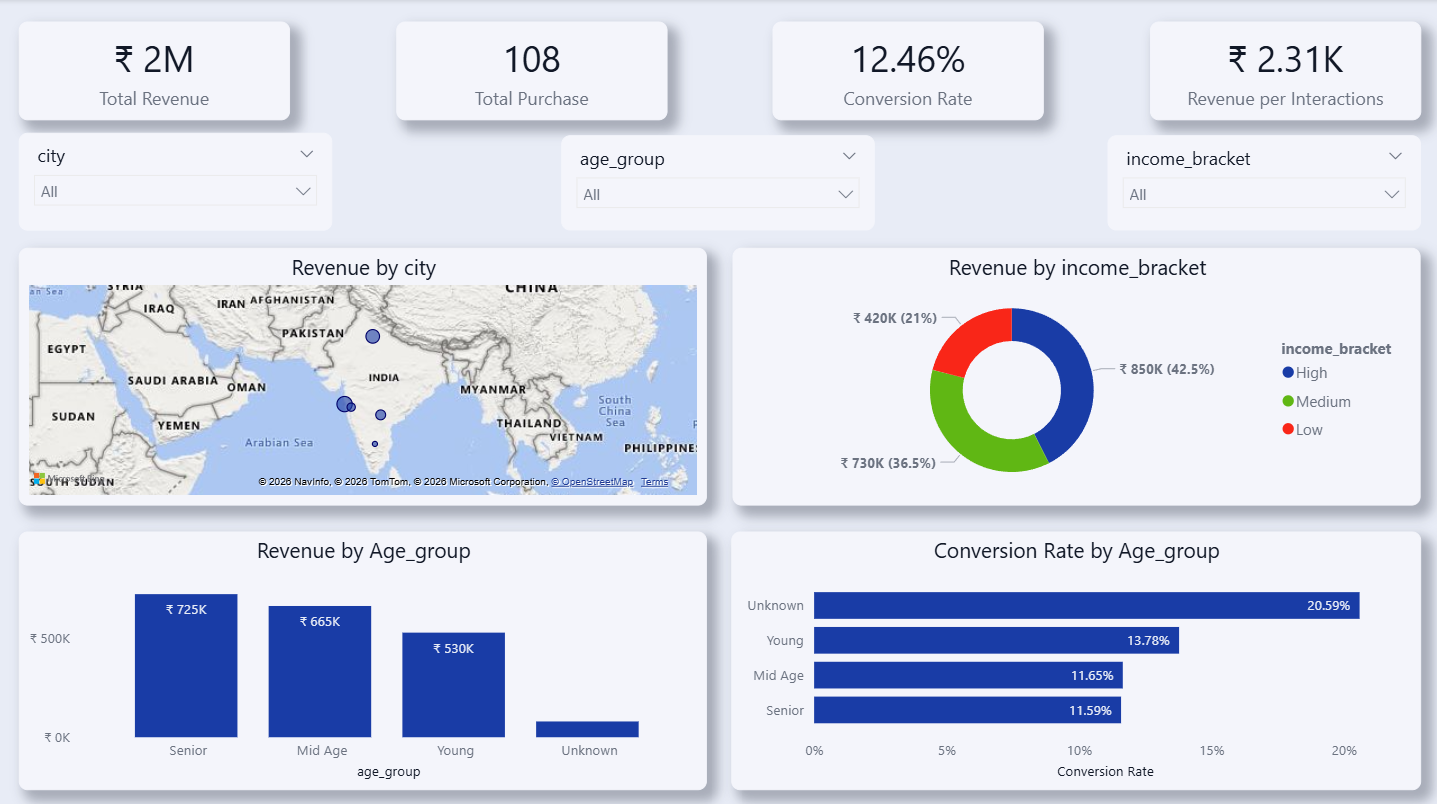

The page's visual inventory and layout, read from the dashboard file:
{"tool":"powerbi","page":{"name":"Customer Insights","canvas":[1280,720],"ordinal":2},"visuals":[{"type":"card","fields":{"Values":["Customers.Total Revenue"]},"box":[17.2,19.6,241.6,88.3],"z":0},{"type":"card","fields":{"Values":["Customers.Total Purchase"]},"box":[352.8,19.6,241.6,88.3],"z":1},{"type":"card","fields":{"Values":["Customers.Conversion Rate"]},"box":[688.4,19.6,241.6,88.3],"z":2},{"type":"card","fields":{"Values":["Customers.Revenue per Interactions"]},"box":[1024,19.6,241.6,88.3],"z":3},{"type":"slicer","fields":{"Values":["Customers.city"]},"box":[17.2,119.6,279.6,87.1],"z":4},{"type":"slicer","fields":{"Values":["Customers.income_bracket"]},"box":[985.9,120.8,279.6,84.6],"z":5},{"type":"slicer","fields":{"Values":["Customers.age_roup"]},"box":[500.3,121.4,279.6,84.6],"z":6},{"type":"map","title":"Revenue by city","fields":{"Category":["Customers.city"],"Size":["Customers.Total Revenue"]},"box":[16.9,222,612.9,229.2],"z":7},{"type":"donutChart","title":"Revenue by income_bracket","fields":{"Y":["Customers.Total Revenue"],"Category":["Customers.income_bracket"]},"box":[652.7,222,612.9,229.2],"z":8},{"type":"clusteredColumnChart","title":"Revenue by Age_group","fields":{"Y":["Customers.Total Revenue"],"Category":["Customers.age_group"]},"box":[16.9,474.1,612.9,230.4],"z":9},{"type":"barChart","title":"Conversion Rate by Age_group","fields":{"Y":["Customers.Conversion Rate"],"Category":["Customers.age_roup"]},"box":[651.5,474.1,614.1,230.4],"z":10}]}

Visuals, with their boxes in screenshot pixels (x1, y1, x2, y2), scaled from the page's 1280x720 canvas onto the 1437x804 screenshot:
card - Customers.Total Revenue: Rect(19, 22, 291, 120)
card - Customers.Total Purchase: Rect(396, 22, 667, 120)
card - Customers.Conversion Rate: Rect(773, 22, 1044, 120)
card - Customers.Revenue per Interactions: Rect(1150, 22, 1421, 120)
slicer - Customers.city: Rect(19, 134, 333, 231)
slicer - Customers.income_bracket: Rect(1107, 135, 1421, 229)
slicer - Customers.age_roup: Rect(562, 136, 876, 230)
"Revenue by city" map: Rect(19, 248, 707, 504)
"Revenue by income_bracket" donutChart: Rect(733, 248, 1421, 504)
"Revenue by Age_group" clusteredColumnChart: Rect(19, 529, 707, 787)
"Conversion Rate by Age_group" barChart: Rect(731, 529, 1421, 787)
